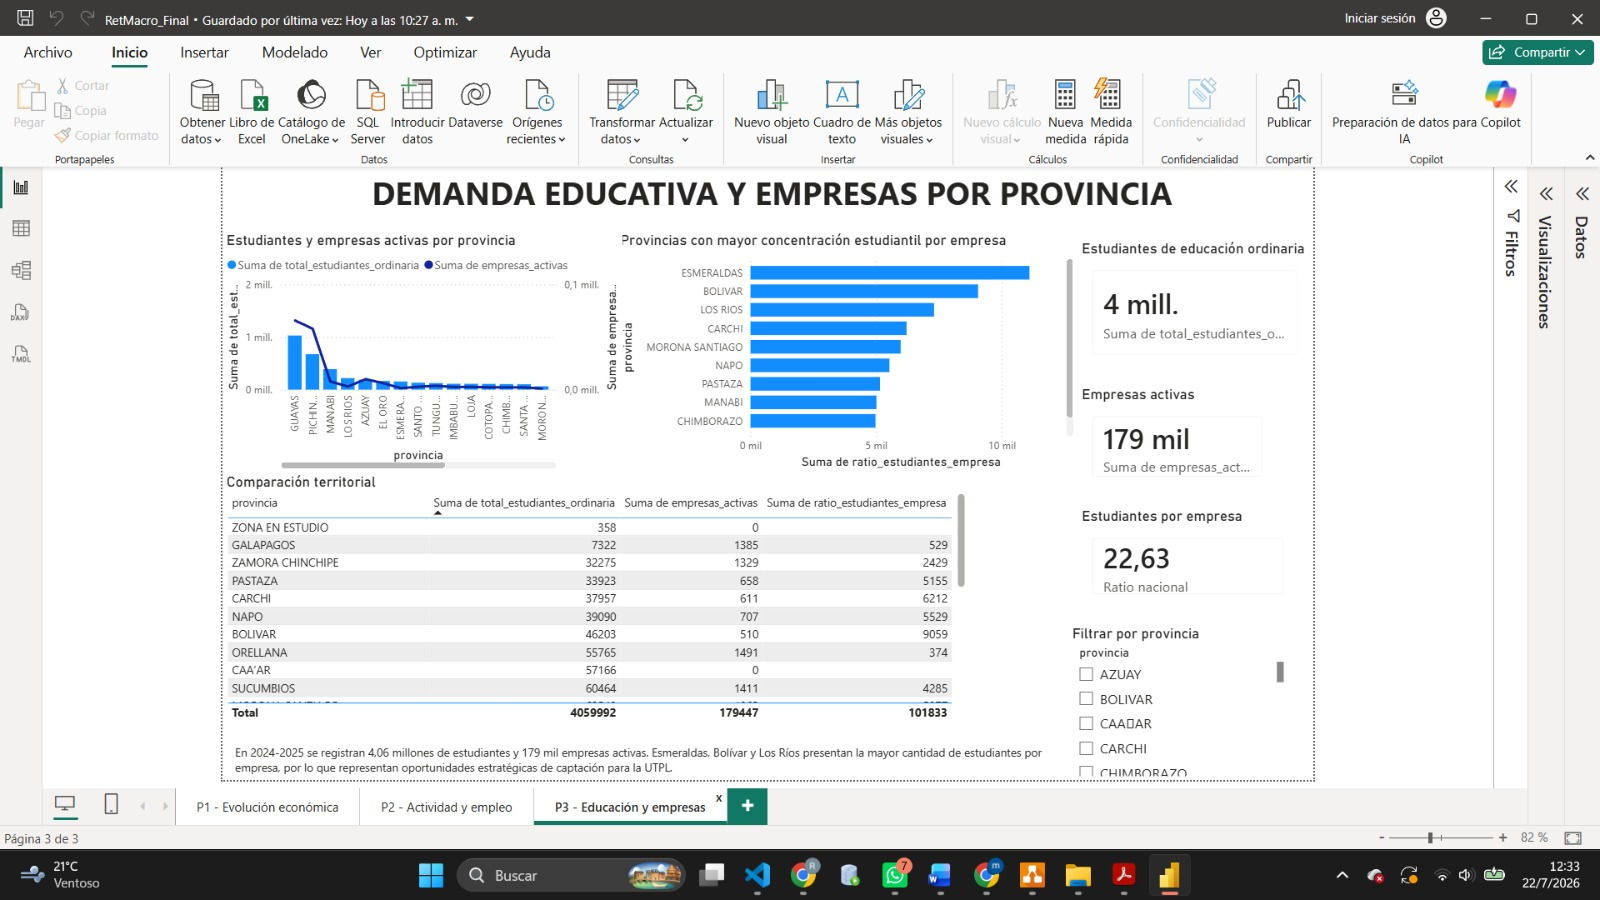

Layout of this report page (visuals, bound fields, positions):
{"tool":"powerbi","page":{"name":"P3 - Educación y empresas","canvas":[1280,720],"ordinal":2},"visuals":[{"type":"textbox","box":[9.6,0,1270.7,64.5],"z":0},{"type":"clusteredBarChart","title":"Provincias con mayor concentración estudiantil por empresa","fields":{"Category":["gold_bachilleres_vs_empresas.Provincia limpia"],"Y":["Sum(gold_bachilleres_vs_empresas.ratio_estudiantes_empresa)"]},"box":[481.8,75.8,502.6,283.7],"z":1000},{"type":"lineClusteredColumnComboChart","title":"Estudiantes y empresas activas por provincia","fields":{"Category":["gold_bachilleres_vs_empresas.Provincia limpia"],"Y":["Sum(gold_bachilleres_vs_empresas.total_estudiantes_ordinaria)"],"Y2":["Sum(gold_bachilleres_vs_empresas.empresas_activas)"]},"box":[0,75.8,469.6,283.7],"z":2000},{"type":"cardVisual","title":"Estudiantes de educación ordinaria","fields":{"Data":["gold_bachilleres_vs_empresas.Total estudiantes texto"]},"box":[1004.5,85.1,275.8,152.3],"z":3000},{"type":"cardVisual","title":"Empresas activas","fields":{"Data":["Sum(gold_bachilleres_vs_empresas.empresas_activas)"]},"box":[1003.9,249.5,276.4,128.4],"z":4000},{"type":"cardVisual","title":"Estudiantes por empresa","fields":{"Data":["gold_bachilleres_vs_empresas.Ratio estudiantes empresa texto1"]},"box":[930.4,387,349.9,133.1],"z":5000},{"type":"tableEx","title":"Comparación territorial","fields":{"Values":["gold_bachilleres_vs_empresas.Provincia limpia","Sum(gold_bachilleres_vs_empresas.total_estudiantes_ordinaria)","Sum(gold_bachilleres_vs_empresas.empresas_activas)","Sum(gold_bachilleres_vs_empresas.ratio_estudiantes_empresa)"]},"box":[215.4,377.4,507.5,277.6],"z":6000},{"type":"slicer","title":"Filtrar por provincia","fields":{"Values":["gold_bachilleres_vs_empresas.Provincia limpia"]},"box":[1013.7,538,258,182.5],"z":7000},{"type":"textbox","box":[9.8,655.4,974.6,64.8],"z":8000}]}

Visuals, with their boxes on the page's 1280x720 design canvas (x1, y1, x2, y2). These are canvas units, not pixel positions in the 1600x900 screenshot, which may show the page scaled, cropped or inside an application window:
textbox: {"x1": 10, "y1": 0, "x2": 1280, "y2": 64}
"Provincias con mayor concentración estudiantil por empresa" clusteredBarChart: {"x1": 482, "y1": 76, "x2": 984, "y2": 360}
"Estudiantes y empresas activas por provincia" lineClusteredColumnComboChart: {"x1": 0, "y1": 76, "x2": 470, "y2": 360}
"Estudiantes de educación ordinaria" cardVisual: {"x1": 1004, "y1": 85, "x2": 1280, "y2": 237}
"Empresas activas" cardVisual: {"x1": 1004, "y1": 250, "x2": 1280, "y2": 378}
"Estudiantes por empresa" cardVisual: {"x1": 930, "y1": 387, "x2": 1280, "y2": 520}
"Comparación territorial" tableEx: {"x1": 215, "y1": 377, "x2": 723, "y2": 655}
"Filtrar por provincia" slicer: {"x1": 1014, "y1": 538, "x2": 1272, "y2": 720}
textbox: {"x1": 10, "y1": 655, "x2": 984, "y2": 720}
